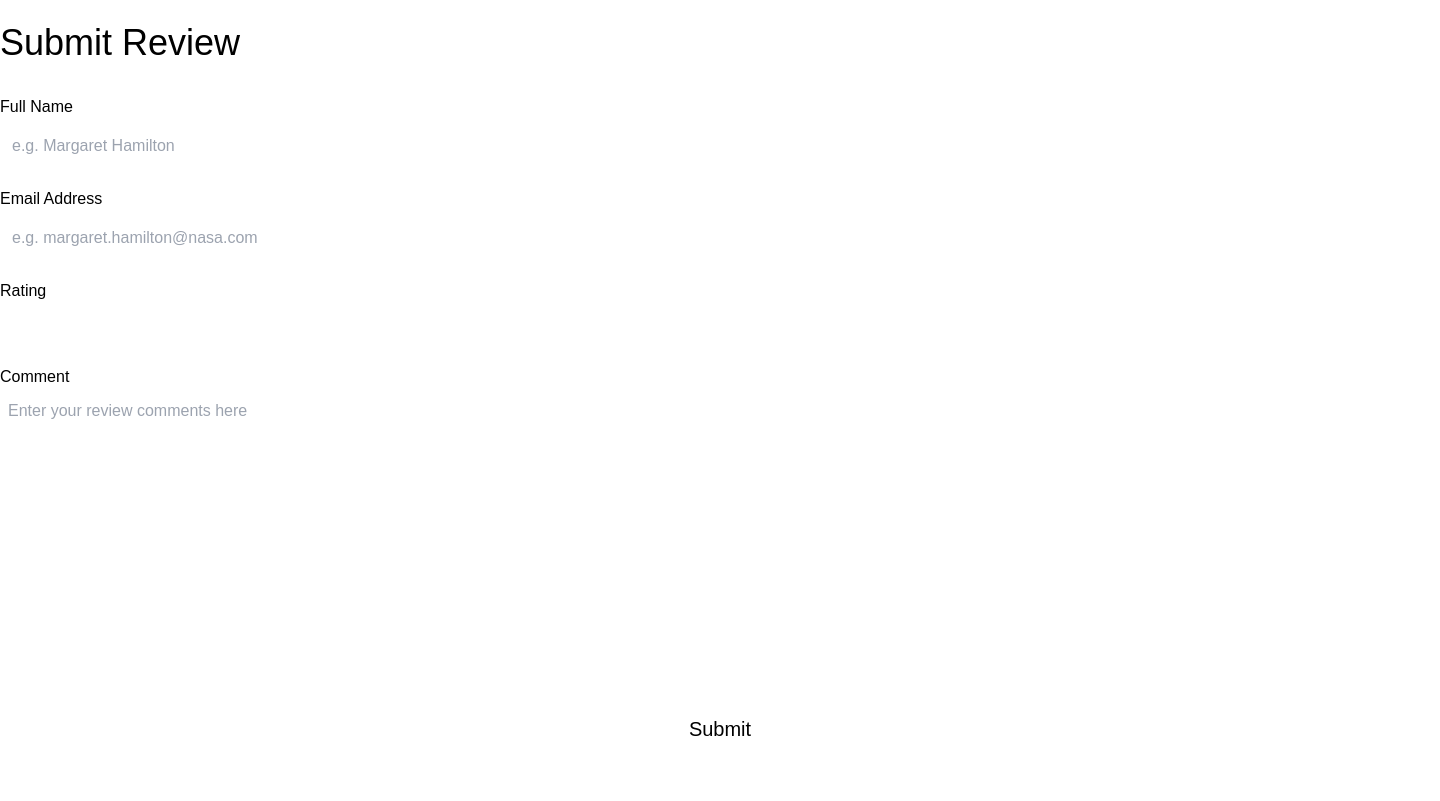
SubmissionForm › shows error for empty rating
Step 1. Type "test name" into the field labelled "Full Name" → (720, 146), box [0,121,1439,171]
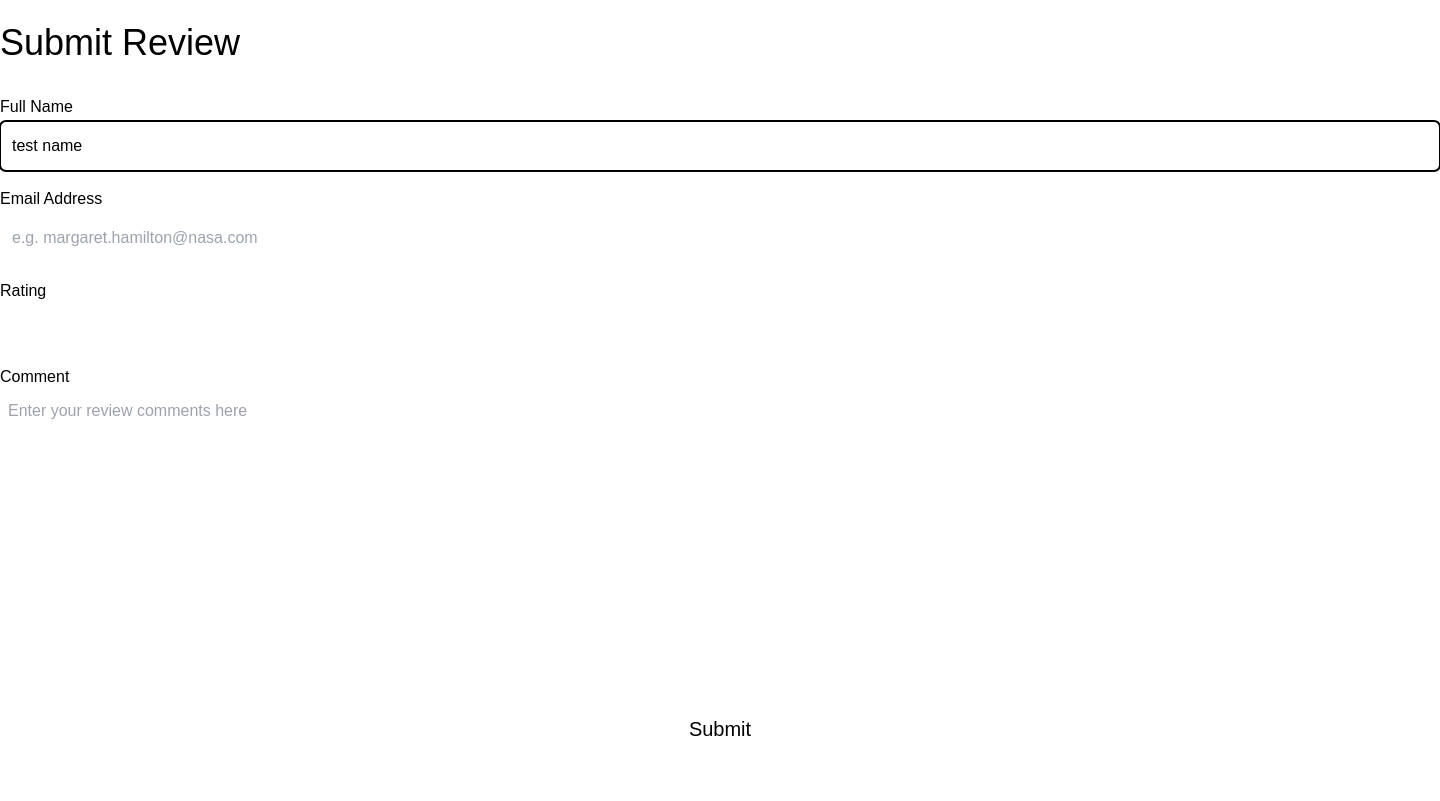
Step 2. Type "test.email@test.com" into the field labelled "Email Address" → (720, 238), box [0,213,1439,263]
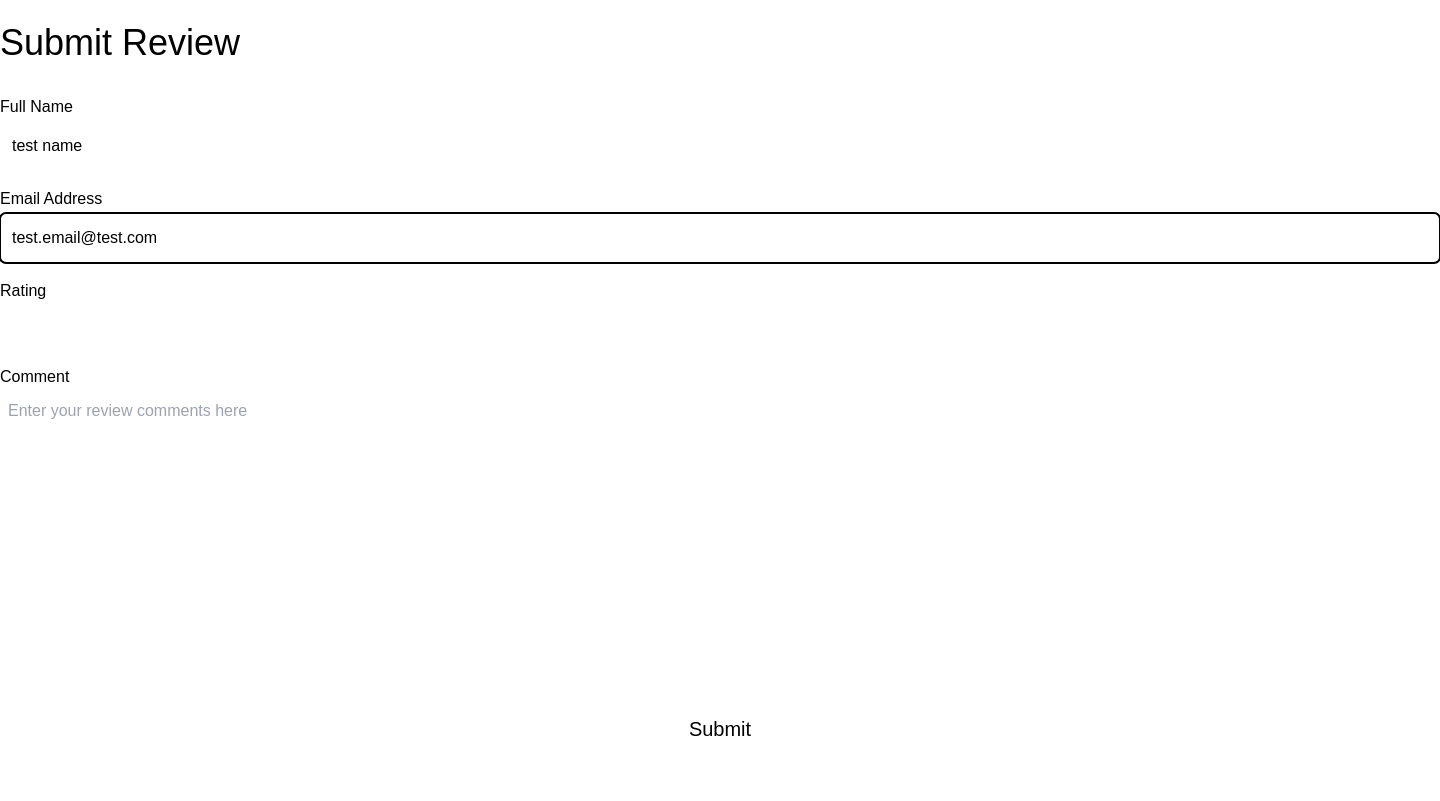
Step 3. Type "test comment" into the text box labelled "Comment" → (720, 541), box [0,391,1439,691]
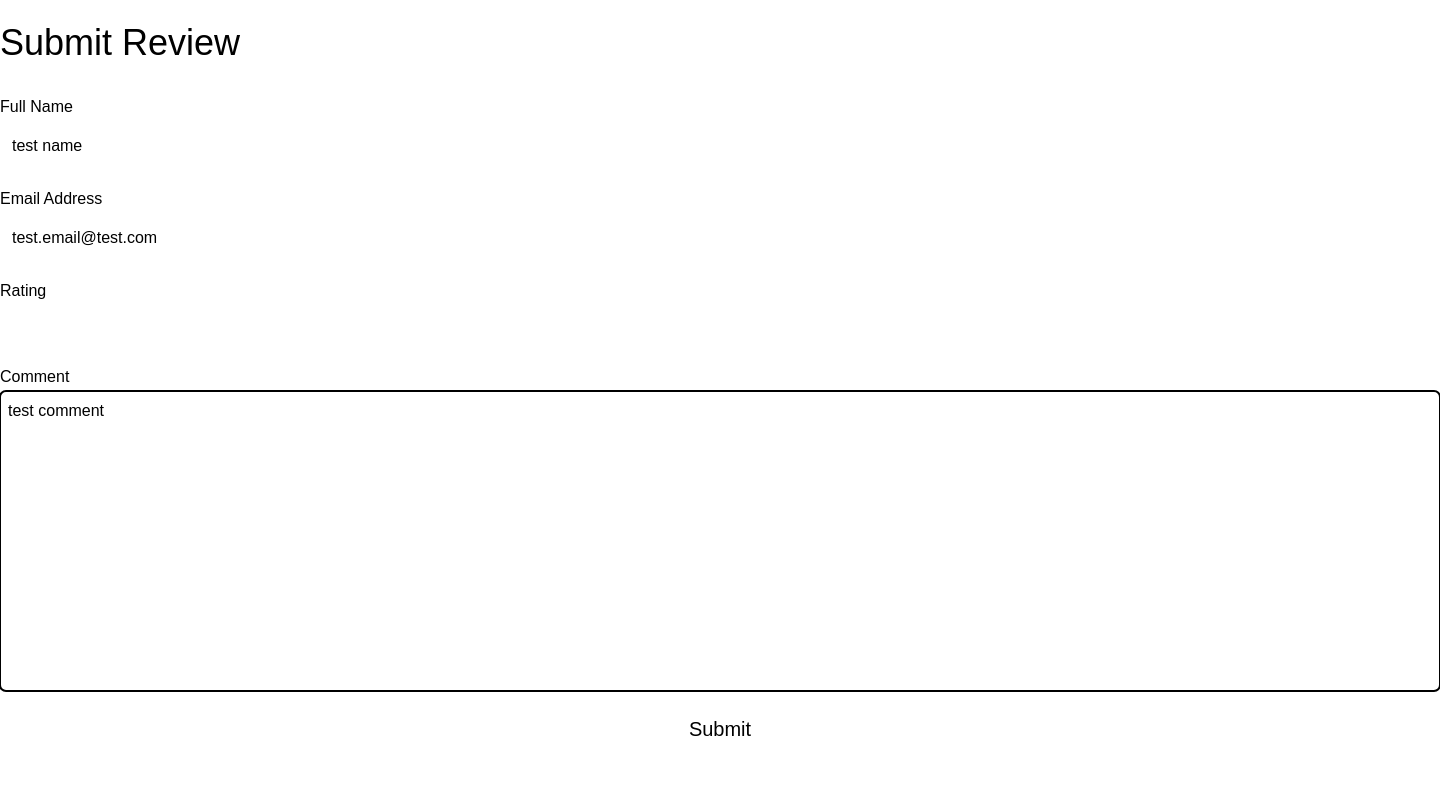
Step 4. Click the button "Submit" → (720, 729), box [0,707,1439,751]
(page scrolled)
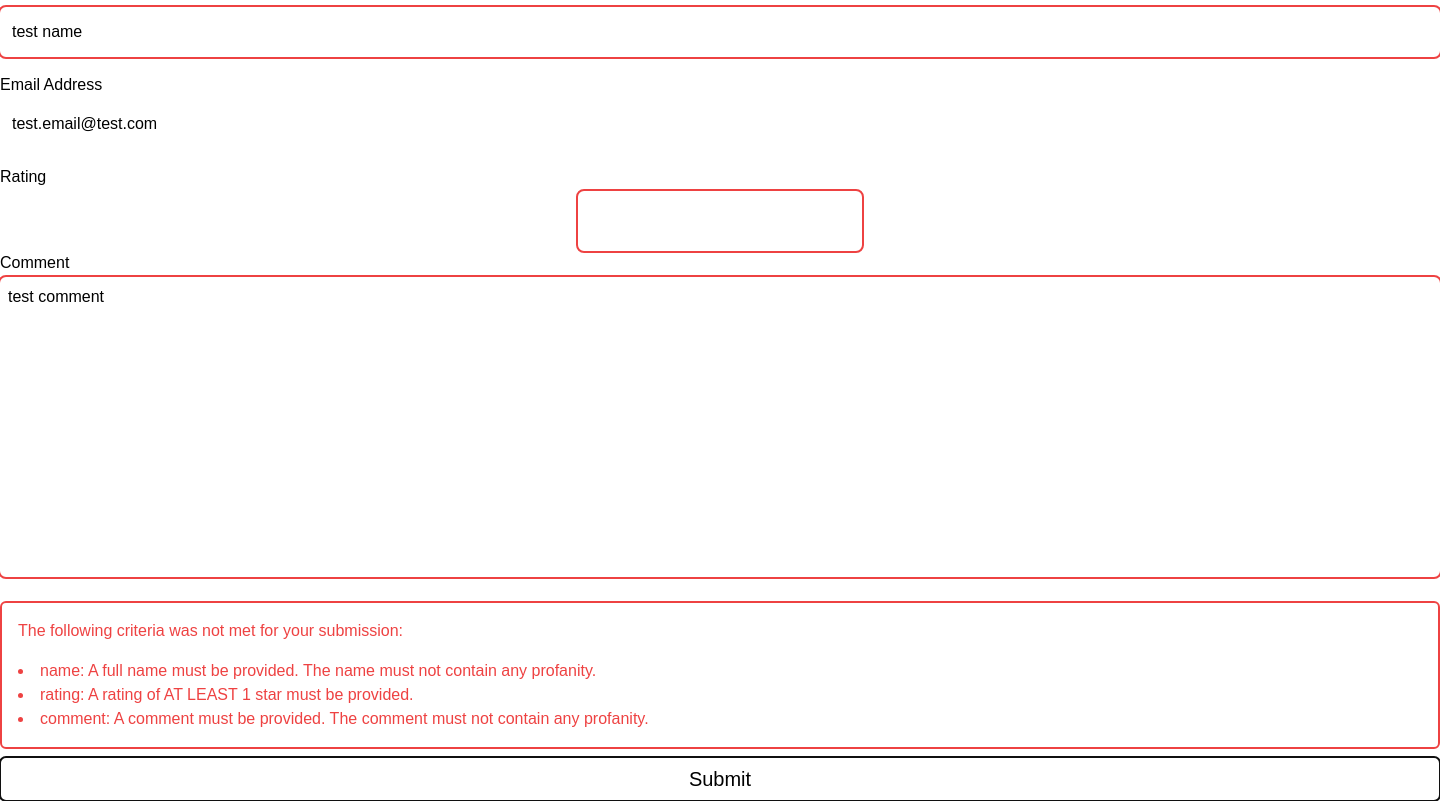
Expected: the list item "rating: A rating of AT LEAST 1 star must be provided." is shown, [40,686,414,703]
